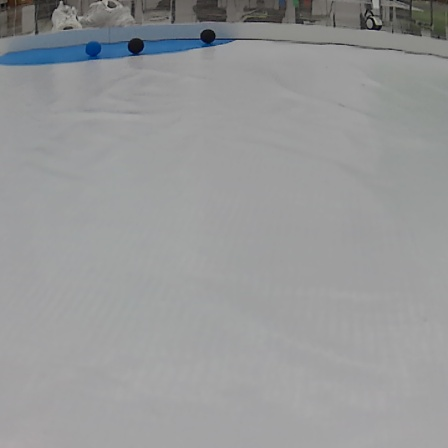black: (127, 38, 148, 54), (200, 30, 216, 44)
blue: (82, 41, 103, 56)
blue_base: (1, 35, 230, 63)
